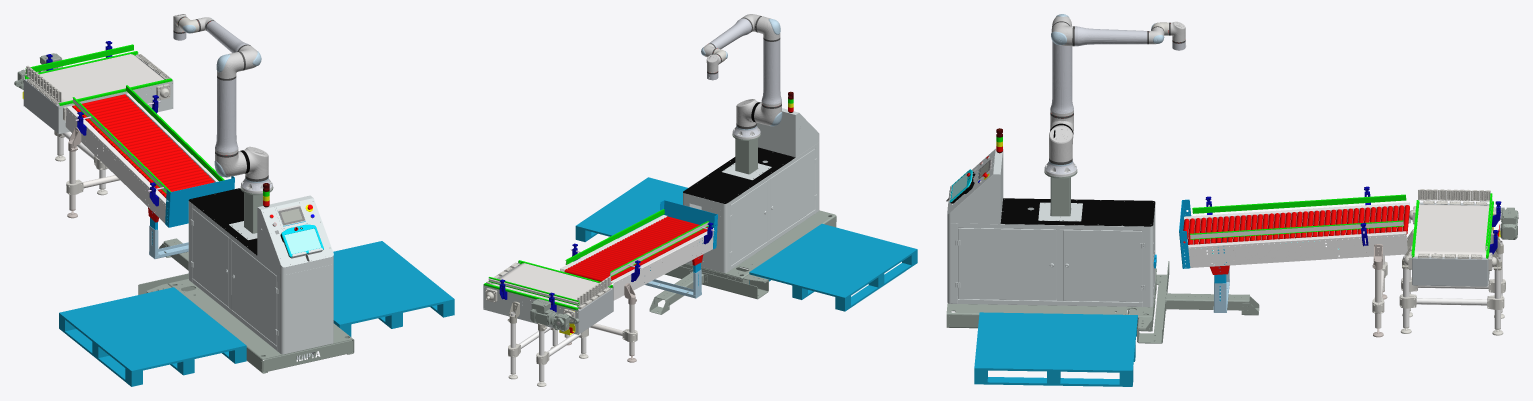
Rendered from 16-base-esteira-reta-convertedor-direito.glb.
3 views of the same model, side by side, from view 1: azimuth 30°, elevation 25°; view 2: azimuth 150°, elevation 25°; view 3: azimuth 270°, elevation 25° (orthographic). The views are drawn at different scales.
Parts seen in each view (by area): view 1: world; view 2: world; view 3: world.
Boxes of the visible parts, x1=… form: world: x1=14, y1=14, x2=454, y2=386; world: x1=483, y1=14, x2=917, y2=386; world: x1=946, y1=14, x2=1518, y2=386.
Size of the model in its own units: 2.86 by 2.35 by 4.33.
